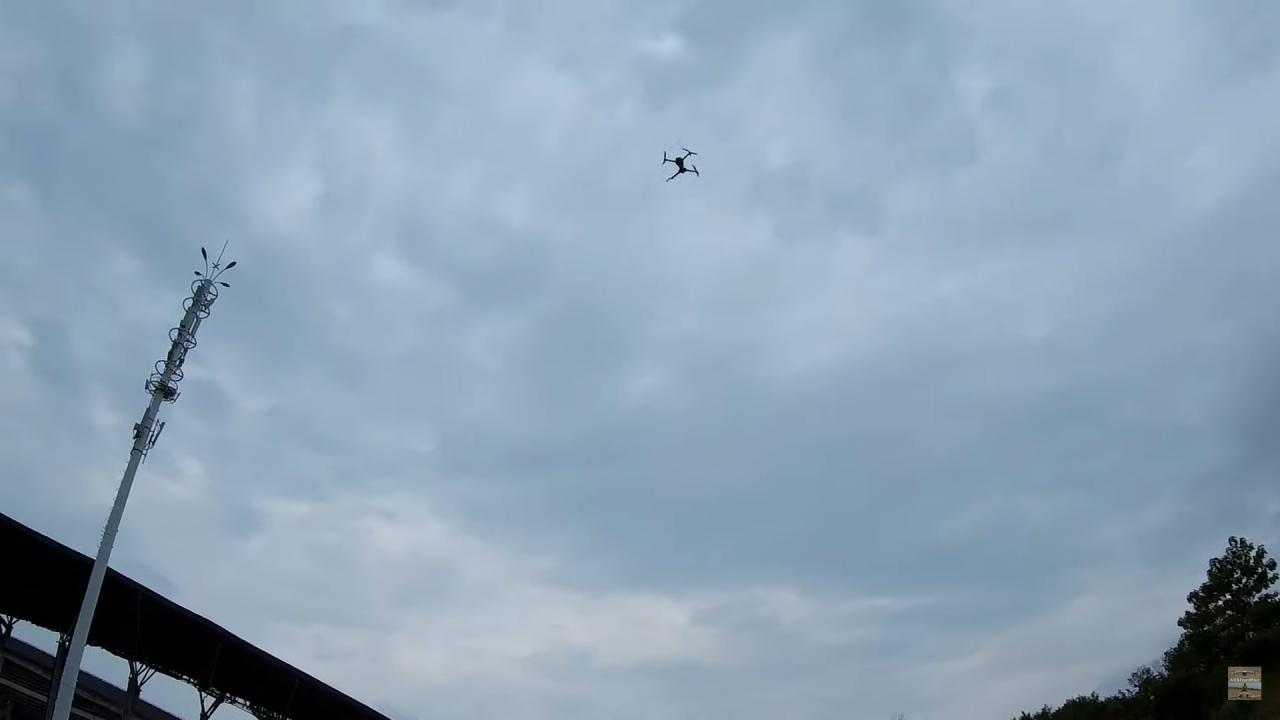Drone: (654, 139, 710, 190)
